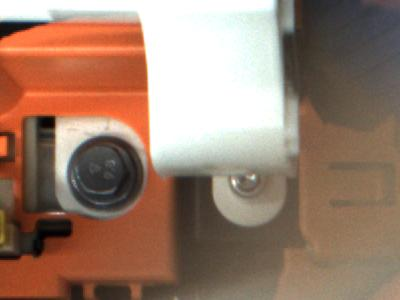nut_b: (62, 134, 145, 207)
